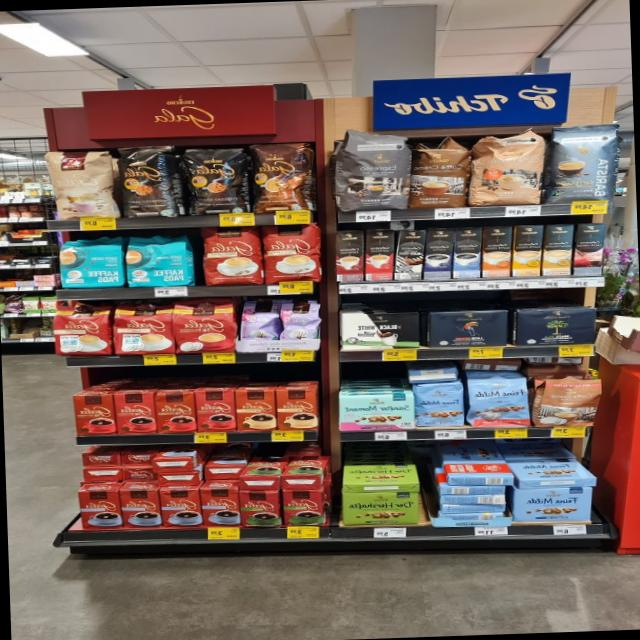BM Gemahlen: (510, 307, 600, 347)
BW Gemahlen: (337, 310, 422, 350)
Barista CC: (541, 120, 624, 204)
CC Mild: (468, 129, 547, 207)
CC Vollmundig: (530, 376, 606, 428)
CC Vollmundig 36 Pads: (408, 135, 474, 208)
Espresso M Art: (332, 131, 413, 212)
FM 36 Pads: (466, 376, 530, 428)
FM Bohne: (414, 380, 466, 428)
FM Gemahlen: (510, 487, 594, 522)
Herzhatfe Mundig: (338, 490, 420, 526)
LG Gemahlen: (424, 309, 512, 348)
SM Gemahlen: (334, 392, 416, 431)
Simo CC Colombia: (573, 223, 606, 273)
Simo CCMild bigpack: (512, 224, 542, 276)
Simo CCVollmundig bigpack: (483, 225, 510, 277)
Simo Decaff: (542, 224, 573, 275)
Simo Es Brazil: (364, 229, 394, 281)
Simo Es Caramel: (336, 230, 364, 282)
Simo Es Elegant: (394, 229, 426, 280)
Simo Es Kraft: (422, 228, 454, 279)
Simo Es Vanilla: (452, 226, 481, 278)
